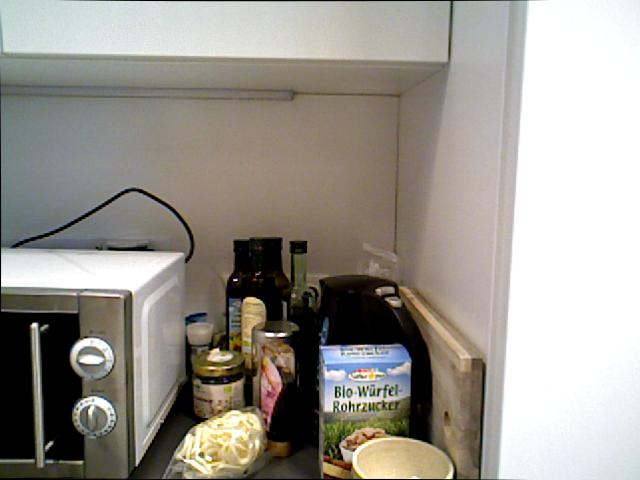bench: (256, 235, 289, 326), (225, 239, 250, 353), (289, 240, 312, 351)
bird: (348, 428, 452, 480)
hot dog: (459, 11, 640, 480)
knife: (0, 245, 187, 478)
